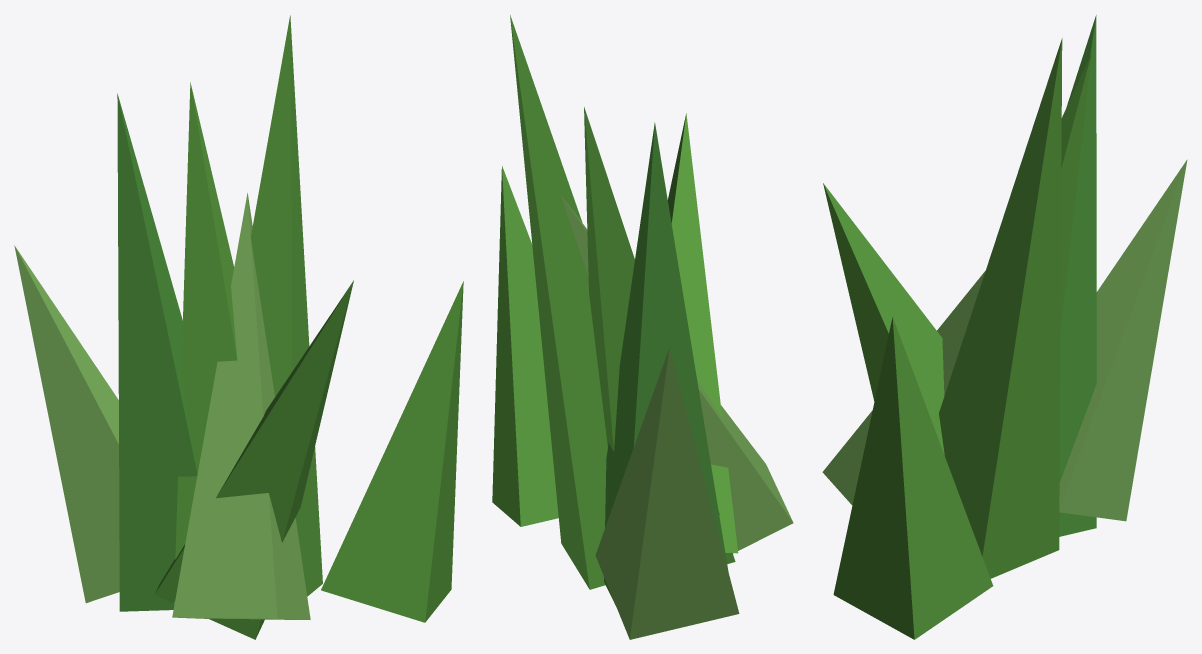
Rendered from grass_tuft_a.fbx.
The picture shows the model from 3 angles, left to right: view 1: azimuth 30°, elevation 25°; view 2: azimuth 150°, elevation 25°; view 3: azimuth 270°, elevation 25°; orthographic projection. The views are drawn at different scales.
Visible parts, largest first — view 1: grass_tuft_a; view 2: grass_tuft_a; view 3: grass_tuft_a.
Boxes of the visible parts, x1,y1,x2,y2 form: grass_tuft_a: (14, 15, 463, 639); grass_tuft_a: (492, 15, 793, 639); grass_tuft_a: (822, 15, 1187, 639).
Size of the model in its own units: 0.0992 by 0.1691 by 0.1003.
